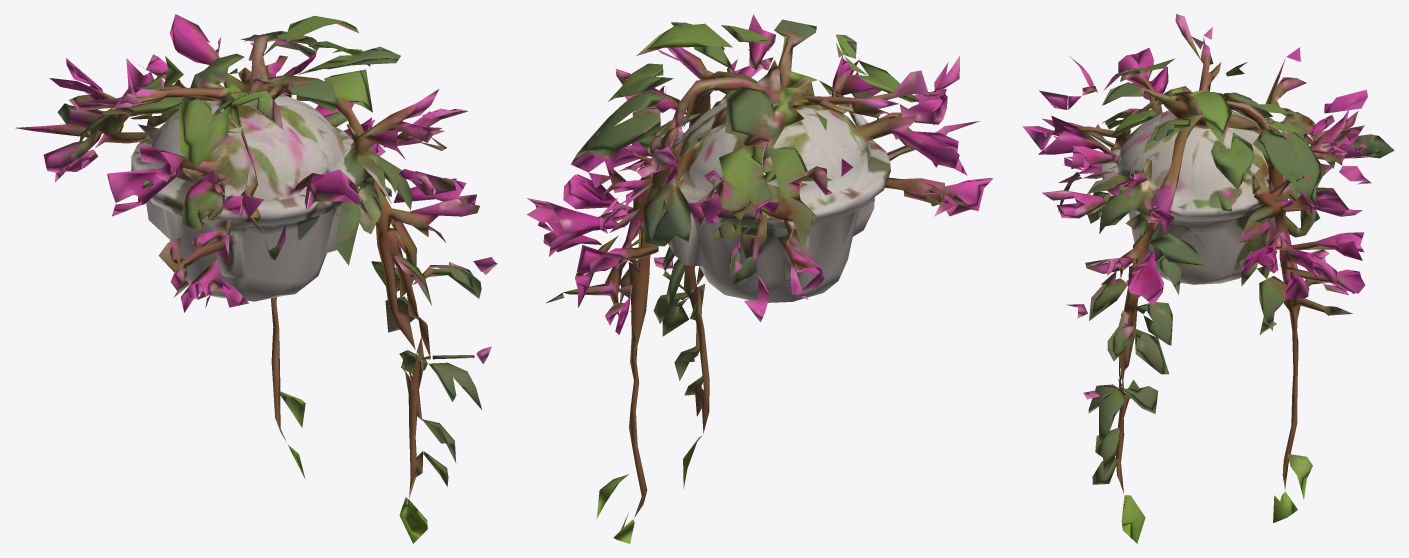
File: bougainvillea.glb
3 renders of one model, left to right at view 1: azimuth 30°, elevation 25°; view 2: azimuth 150°, elevation 25°; view 3: azimuth 270°, elevation 25°, orthographic. The views are drawn at different scales.
Visible parts, largest first — view 1: tripo_node_bfa3c5d8-c26c-42eb-bcf0-aef34c2e6dcd; view 2: tripo_node_bfa3c5d8-c26c-42eb-bcf0-aef34c2e6dcd; view 3: tripo_node_bfa3c5d8-c26c-42eb-bcf0-aef34c2e6dcd.
Part boxes in pixels (x1,y1,x2,y2): tripo_node_bfa3c5d8-c26c-42eb-bcf0-aef34c2e6dcd: [15, 14, 497, 543]; tripo_node_bfa3c5d8-c26c-42eb-bcf0-aef34c2e6dcd: [527, 14, 993, 543]; tripo_node_bfa3c5d8-c26c-42eb-bcf0-aef34c2e6dcd: [1022, 14, 1394, 543].
Size of the model in its own units: 0.7319 by 0.9922 by 0.786.
1 material, 1 textured.
